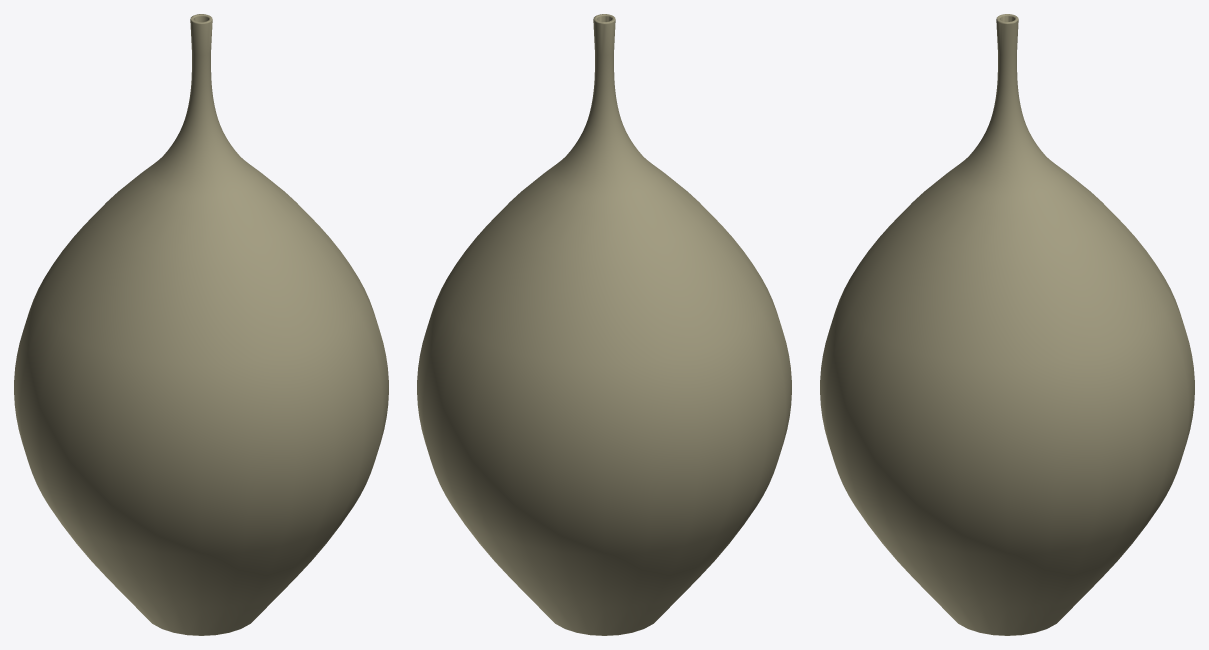
The model's file is Pot3.fbx.
The picture shows the model from 3 angles, left to right: view 1: azimuth 30°, elevation 25°; view 2: azimuth 150°, elevation 25°; view 3: azimuth 270°, elevation 25°; orthographic projection.
Parts seen in each view (by area): view 1: Pot3; view 2: Pot3; view 3: Pot3.
Part boxes in pixels (x1=…): Pot3: x1=14, y1=14, x2=388, y2=635; Pot3: x1=417, y1=14, x2=791, y2=635; Pot3: x1=820, y1=14, x2=1194, y2=635.
Bounding box in the file's own units: 0.108 × 0.189 × 0.108.
Materials: 1 (1 with a texture image).
